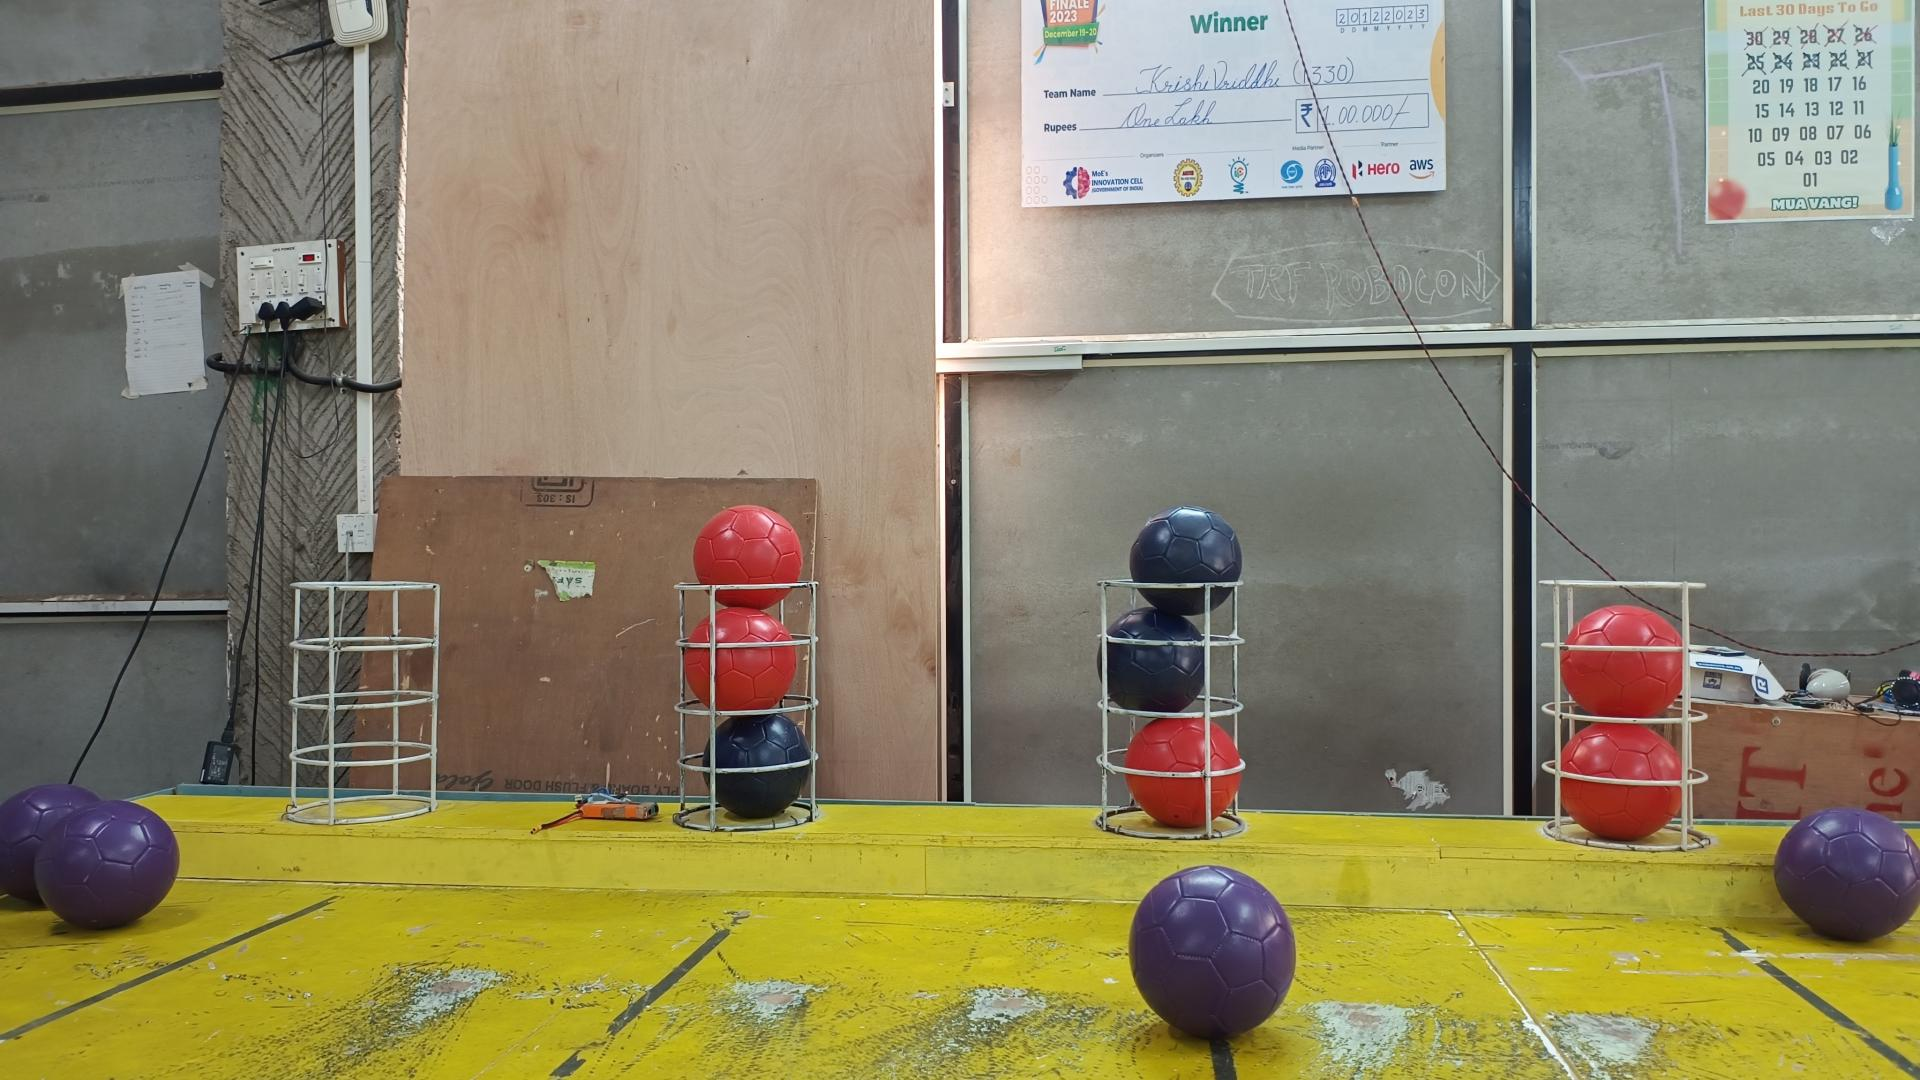dhoka: (1131, 505, 1244, 617), (703, 711, 811, 819), (1097, 607, 1207, 711)
laale: (1556, 723, 1684, 843), (1560, 607, 1680, 720), (1125, 717, 1245, 827), (682, 607, 798, 712), (691, 508, 800, 612)
